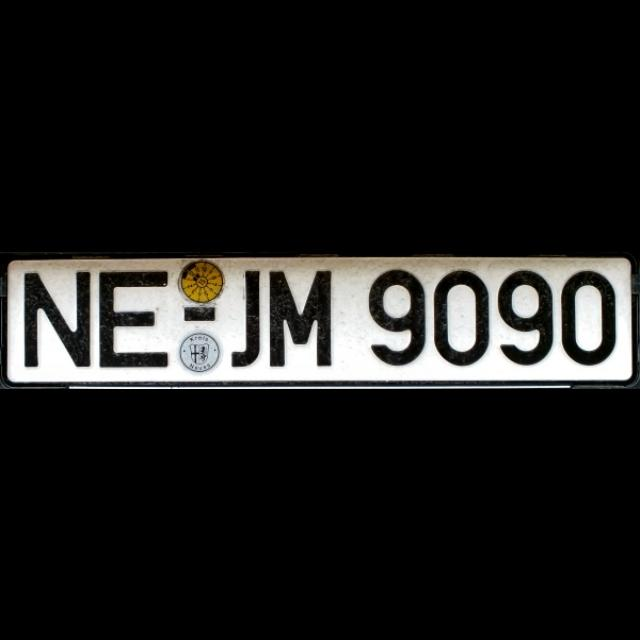d_license_plate: (6, 257, 632, 381)
